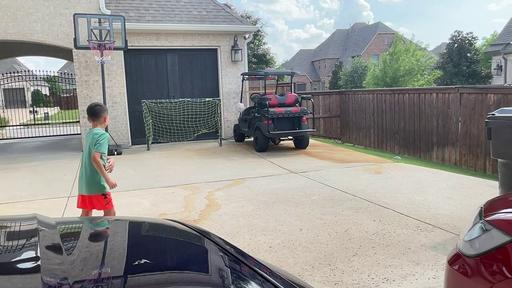human: (76, 102, 116, 220)
rim: (89, 38, 116, 66)
